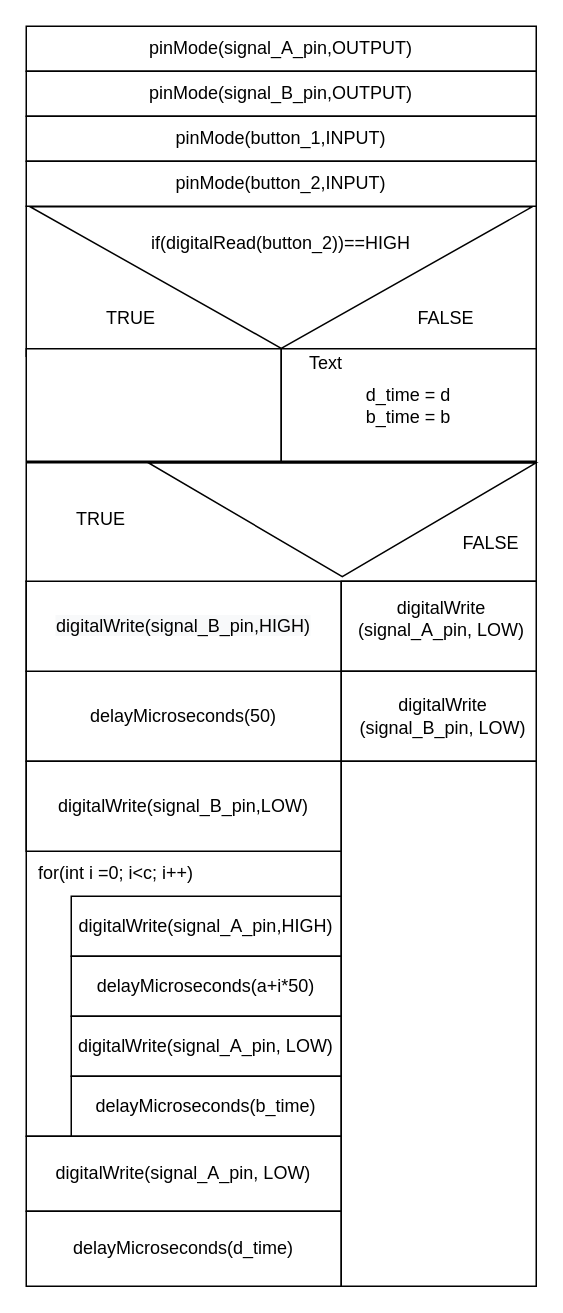
The diagram is 563 pixels wide and 1313 high, and some of its shapes have lost their labels. Each missing label, with the centre of its shape:
"d_time = d/2 b_time = b/2" goes at (x=153, y=404).
"if(digitalRead(button_1))==LOW" goes at (x=341, y=519).
